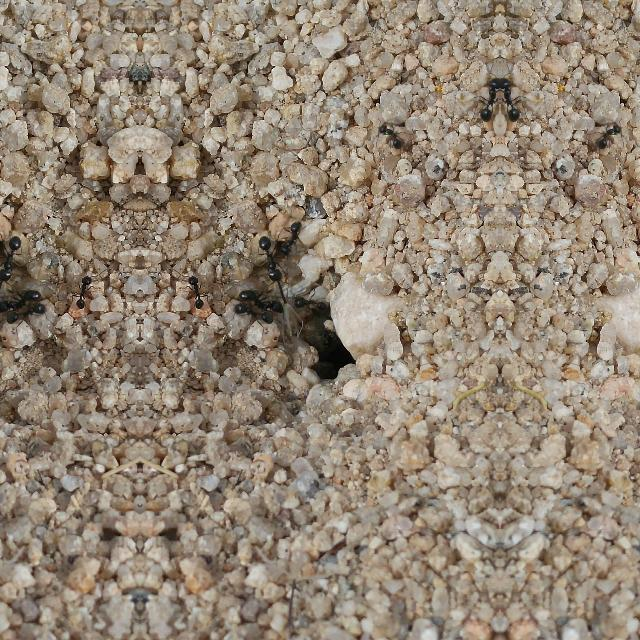Messor: (225, 295, 281, 333), (0, 295, 55, 333), (259, 220, 309, 260), (252, 238, 292, 284), (231, 289, 295, 315), (0, 289, 49, 315), (0, 237, 27, 284), (471, 83, 499, 123), (501, 83, 529, 123), (179, 268, 201, 318), (79, 268, 101, 318), (376, 117, 406, 153), (594, 117, 624, 153), (0, 220, 21, 260)
